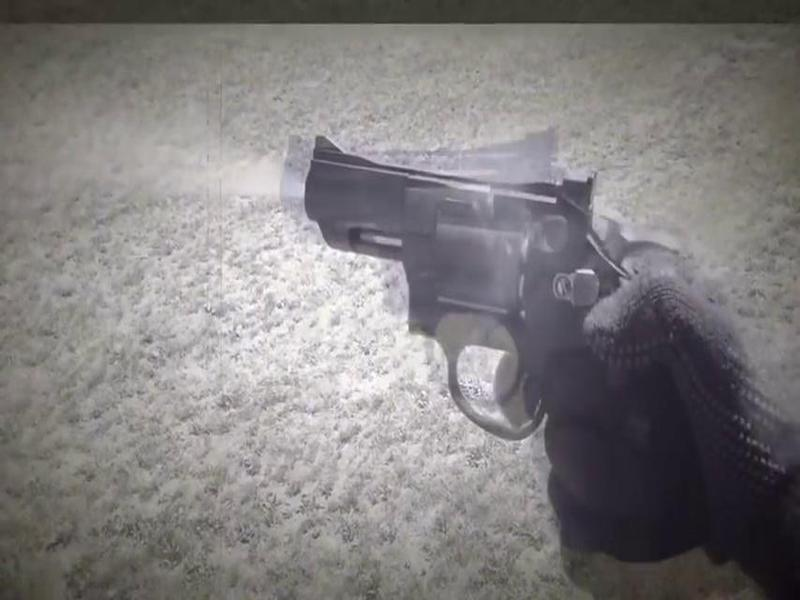Revolver: (307, 126, 707, 518)
